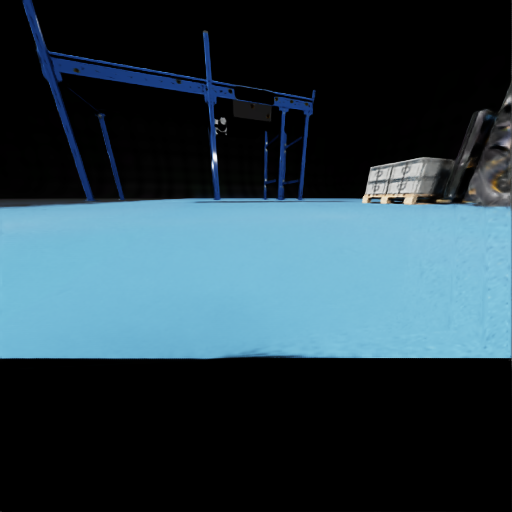transportation_area: (387, 177, 447, 193), (396, 194, 404, 197), (401, 180, 402, 185), (404, 169, 405, 174), (407, 160, 408, 163)
